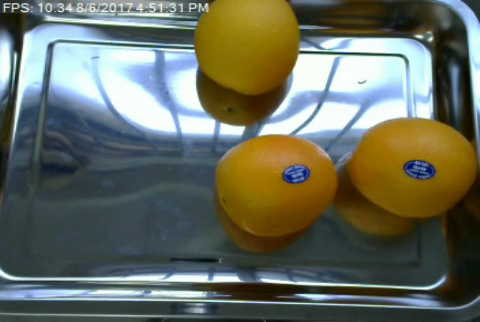Orange: (348, 117, 480, 217), (214, 133, 337, 235), (193, 1, 300, 99)
